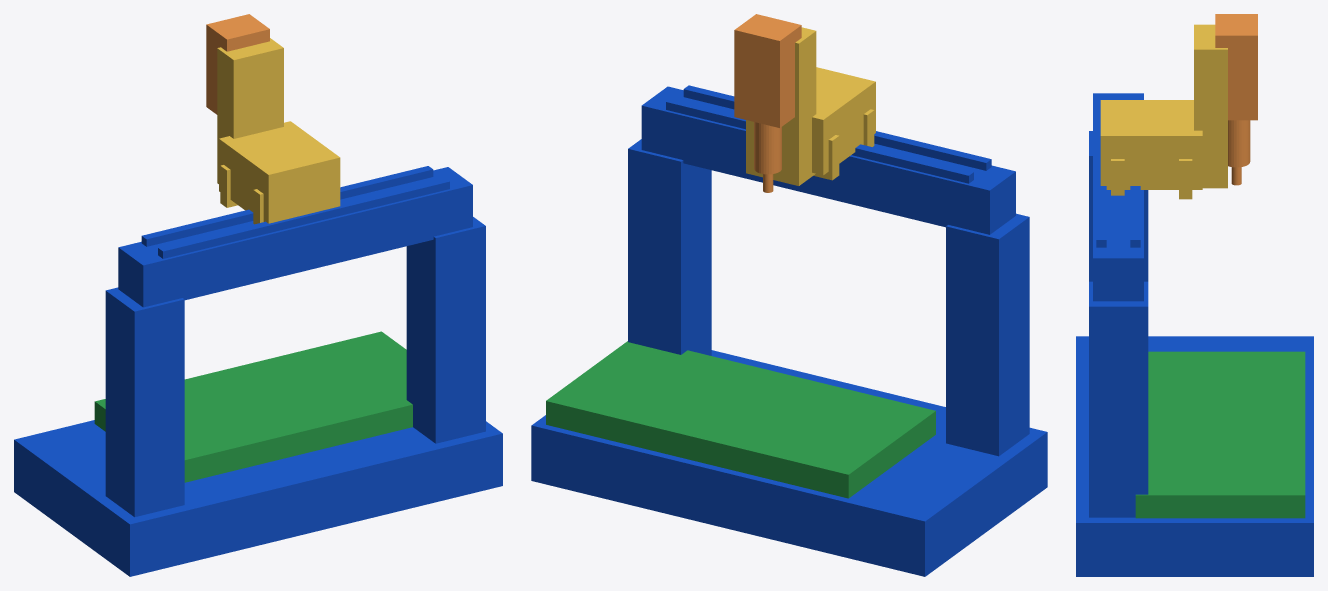
File: cnc_machine.obj
The picture shows the model from 3 angles, left to right: view 1: azimuth 30°, elevation 25°; view 2: azimuth 150°, elevation 25°; view 3: azimuth 270°, elevation 25°; orthographic projection. The views are drawn at different scales.
Visible parts, largest first — view 1: M_Base, M_Table, M_Carriage, M_Head; view 2: M_Base, M_Table, M_Carriage, M_Head; view 3: M_Base, M_Table, M_Carriage, M_Head.
Part boxes in pixels (bbox=[...]): M_Base: bbox=[14, 166, 502, 576]; M_Table: bbox=[94, 331, 412, 482]; M_Carriage: bbox=[217, 38, 340, 224]; M_Head: bbox=[206, 14, 269, 114]; M_Base: bbox=[531, 85, 1047, 576]; M_Table: bbox=[546, 341, 935, 498]; M_Carriage: bbox=[746, 27, 875, 185]; M_Head: bbox=[734, 14, 801, 192]; M_Base: bbox=[1076, 93, 1313, 576]; M_Table: bbox=[1135, 351, 1305, 518]; M_Carriage: bbox=[1100, 24, 1227, 199]; M_Head: bbox=[1215, 14, 1257, 185].
Size of the model in its own units: 2.6 by 2.98 by 1.4.
